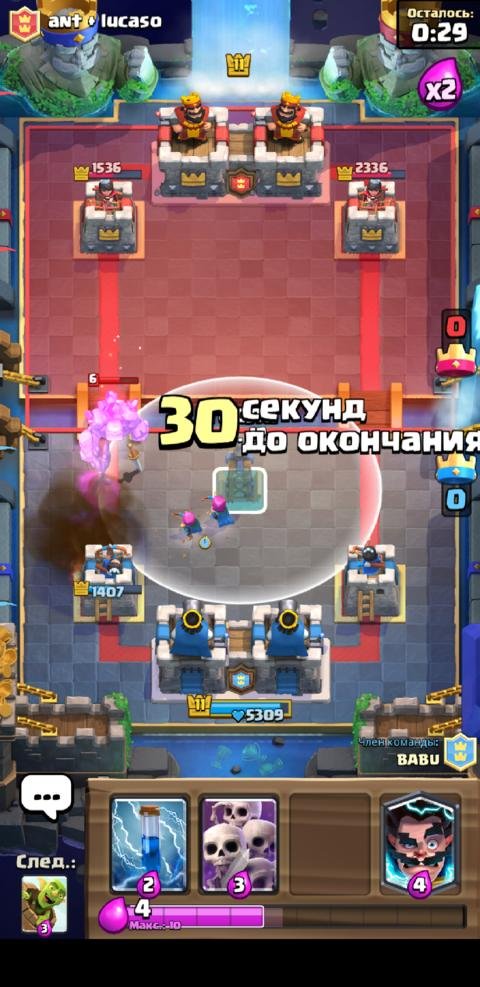ally_archer: (199, 494, 234, 527), (170, 509, 202, 539)
enemy_golem: (75, 372, 148, 469)
